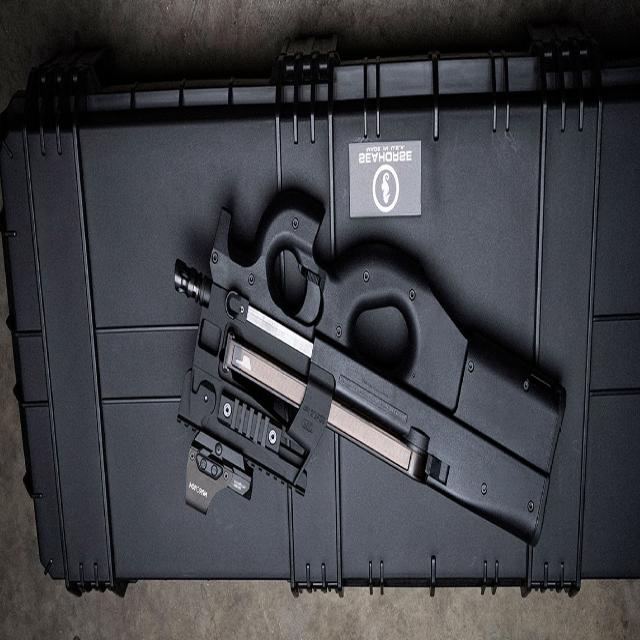Gun: (162, 123, 579, 568)
